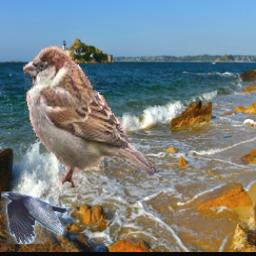Crow: (2, 192, 68, 245)
Sparrow: (24, 47, 160, 189)
